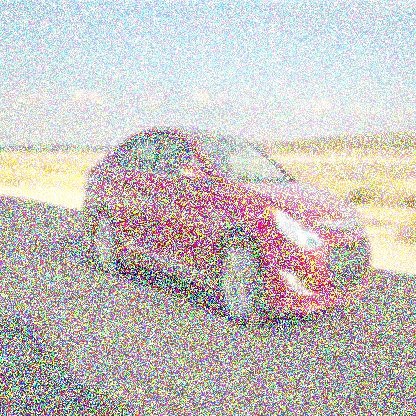Vehicle: (85, 129, 373, 329)
